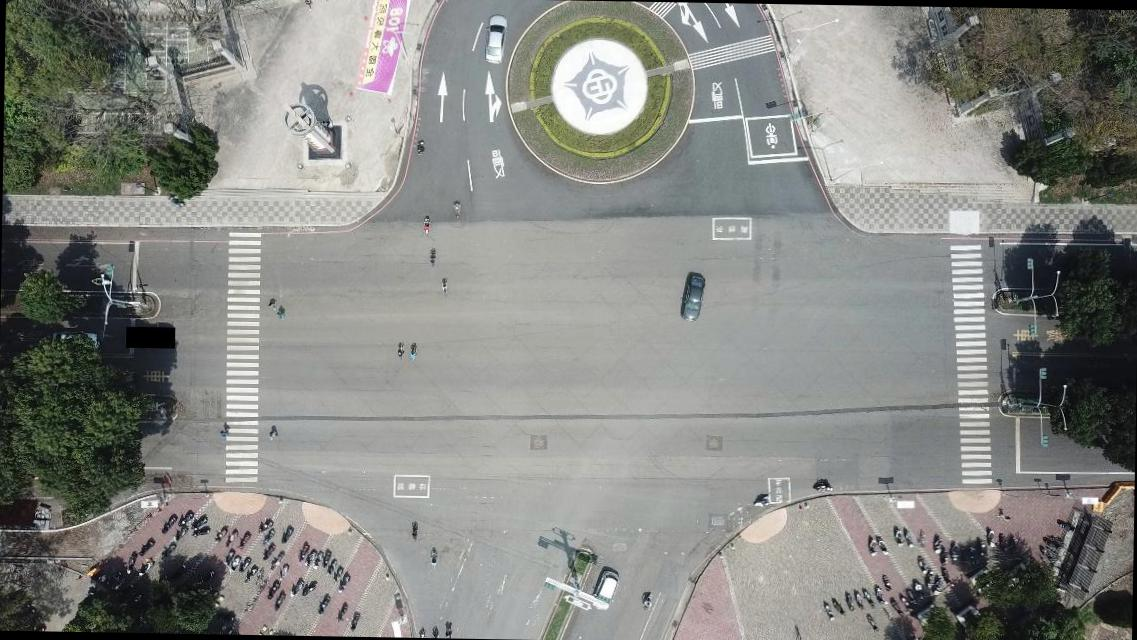vehicle: (482, 12, 510, 66), (589, 566, 621, 611), (680, 270, 705, 322), (49, 331, 96, 354)
